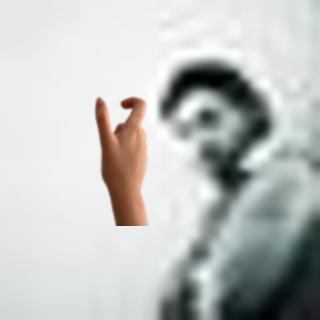Irritated: (89, 91, 154, 220)
